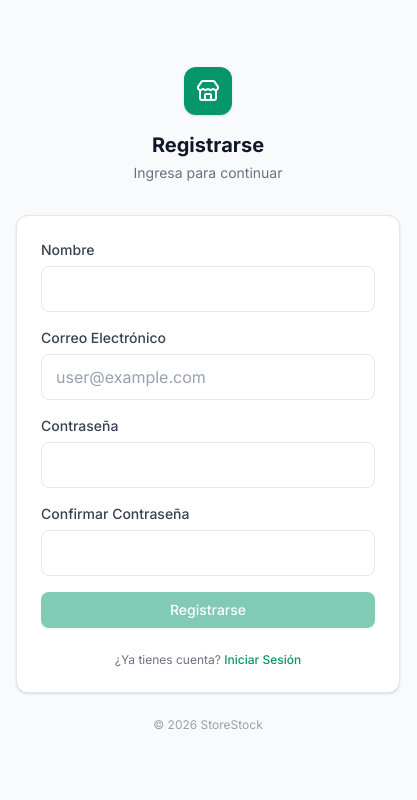
Test: RegisterPage › habilita el botón cuando la contraseña cumple los requisitos y coincide
Step 1. Type "Abcdef12" into the 1st password field → [208, 465], box [41, 442, 375, 488]
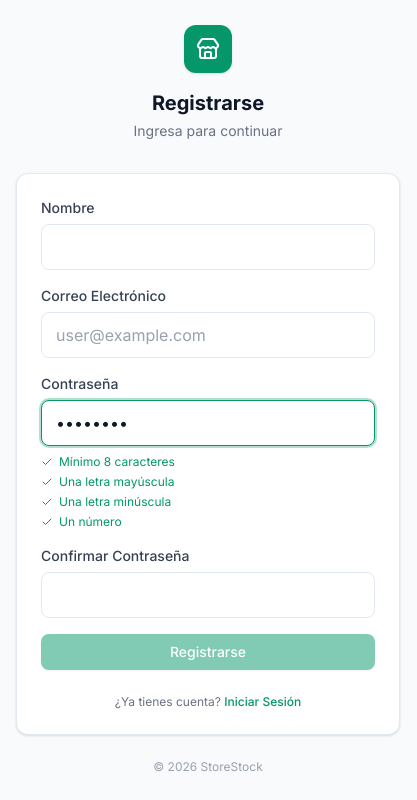
Step 2. Type "Abcdef12" into the password field below "Confirmar Contraseña" → [208, 595], box [41, 572, 375, 618]
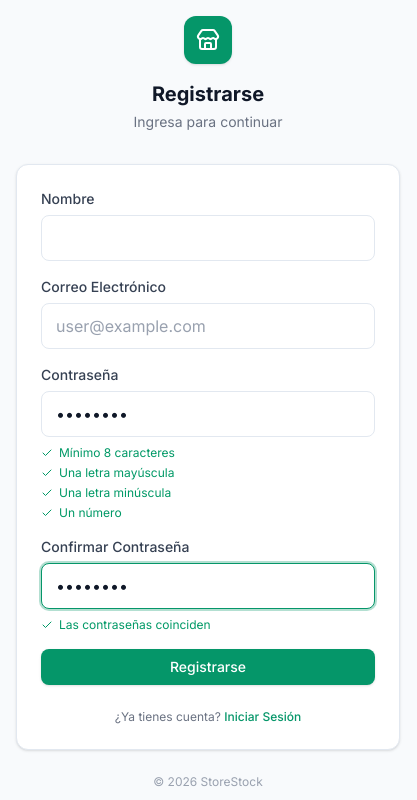
Now the button "Registrarse" is enabled, box [41, 649, 375, 685]
